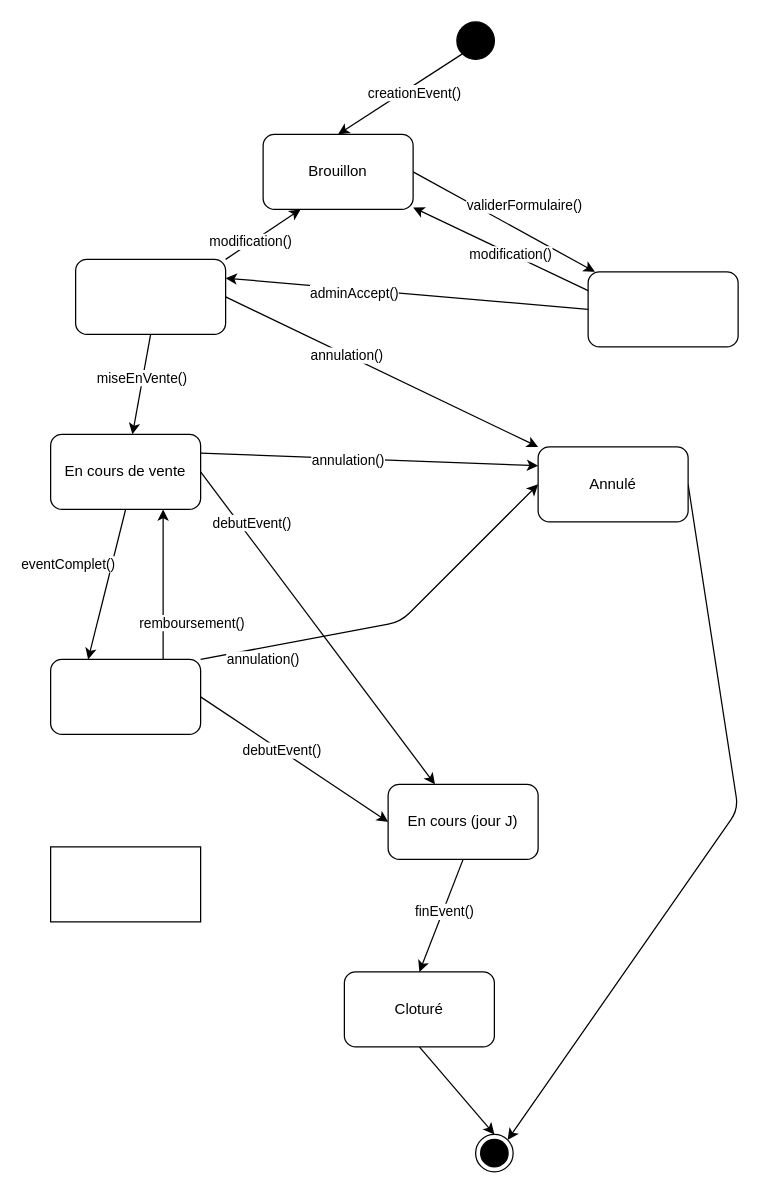
This 771x1194 diagram has some shape labels left out. Each missing label, with the box of its shape:
Complet: (49, 658, 201, 734)
Evaluation: (587, 271, 738, 347)
Publié: (74, 258, 226, 334)
